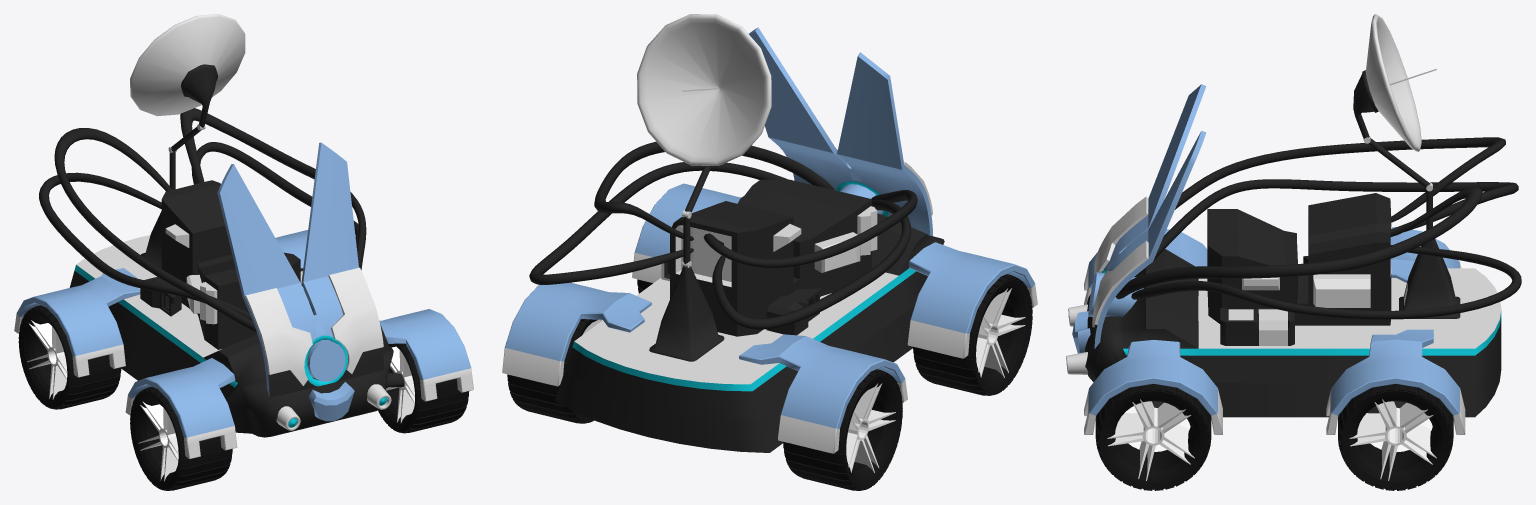
File: rover_untextured.fbx
3 views of the same model, side by side, from view 1: azimuth 30°, elevation 25°; view 2: azimuth 150°, elevation 25°; view 3: azimuth 270°, elevation 25° (orthographic). The views are drawn at different scales.
Parts seen in each view (by area): view 1: Plane.002, Cube.006, Cube.015, ROVER.001, Support_Back_Right, Support_Front_Right, Support_Front_Left, Wheel_Back_Right, Wheel_Front_Right, BézierCurve.002, Plane.005, Plane.001 (+13 smaller); view 2: Cube.006, Cube.015, ROVER.001, Plane.002, Support_Back_Right, Support_Back_Left, Support_Front_Right, Wheel_Back_Right, Wheel_Front_Right, BézierCurve.003, Cube, BézierCurve.004 (+7 smaller); view 3: Cube.006, Cube.015, Wheel_Front_Left, Wheel_Back_Left, Support_Back_Left, Support_Front_Left, Rib_01, Plane.002, BézierCurve.003, BézierCurve.002, BézierCurve.004, ROVER.001 (+12 smaller).
Part boxes in pixels (box(x1,y1,x2,y2)): Plane.002: box(217, 142, 383, 397); Cube.006: box(69, 235, 393, 437); Cube.015: box(161, 180, 300, 349); ROVER.001: box(130, 14, 245, 116); Support_Back_Right: box(14, 268, 140, 377); Support_Front_Right: box(125, 358, 237, 459); Support_Front_Left: box(379, 309, 473, 401); Wheel_Back_Right: box(18, 305, 121, 409); Wheel_Front_Right: box(130, 386, 232, 490); BézierCurve.002: box(54, 128, 256, 332); Plane.005: box(245, 288, 312, 385); Plane.001: box(328, 267, 383, 373); Cube.006: box(555, 196, 944, 452); Cube.015: box(661, 179, 877, 336); ROVER.001: box(637, 14, 771, 165); Plane.002: box(749, 27, 932, 236); Support_Back_Right: box(739, 334, 907, 453); Support_Back_Left: box(502, 282, 651, 386); Support_Front_Right: box(907, 242, 1037, 358); Wheel_Back_Right: box(783, 369, 902, 490); Wheel_Front_Right: box(913, 274, 1032, 395); BézierCurve.003: box(529, 162, 787, 284); Cube: box(649, 266, 724, 361); BézierCurve.004: box(712, 199, 911, 329); Cube.006: box(1085, 249, 1501, 417); Cube.015: box(1207, 193, 1391, 325); Wheel_Front_Left: box(1095, 384, 1211, 490); Wheel_Back_Left: box(1338, 384, 1453, 490); Support_Back_Left: box(1326, 329, 1465, 434); Support_Front_Left: box(1084, 339, 1222, 434); Rib_01: box(1115, 187, 1482, 299); Plane.002: box(1094, 84, 1206, 349); BézierCurve.003: box(1131, 245, 1521, 319); BézierCurve.002: box(1175, 137, 1505, 222); BézierCurve.004: box(1134, 179, 1518, 276); ROVER.001: box(1365, 14, 1421, 151).
Size of the model in its own units: 203 by 244 by 255.
